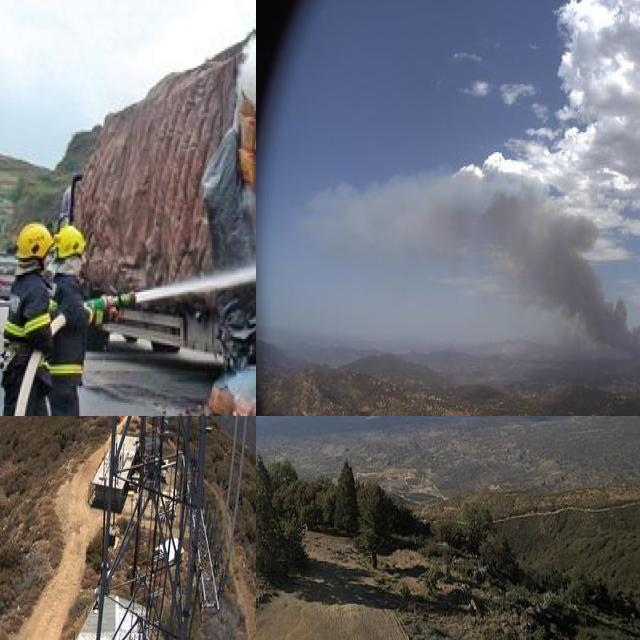smoke: (306, 169, 640, 367)
